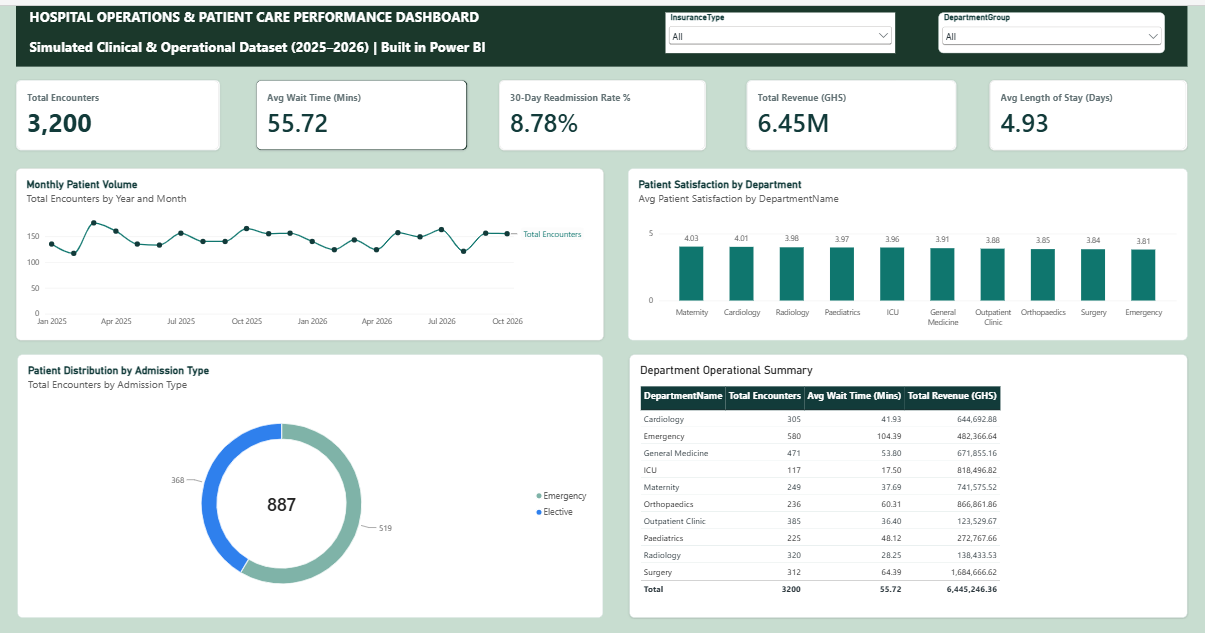

The page's visual inventory and layout, read from the dashboard file:
{"tool":"powerbi","page":{"name":"Page 1","canvas":[1920,1080],"ordinal":0},"visuals":[{"type":"shape","box":[29.3,48.8,1863.4,126.8],"z":0},{"type":"cardVisual","fields":{"Data":["_Measures.Total Encounters (Card)"]},"box":[28.6,195.6,324.5,112.1],"z":1000},{"type":"cardVisual","fields":{"Data":["_Measures.Avg Length of Stay (Days)"]},"box":[1577.1,195.6,314.9,112.1],"z":2000},{"type":"cardVisual","fields":{"Data":["_Measures.Total Revenue (GHS)"]},"box":[1190.6,195.6,334,112.1],"z":3000},{"type":"cardVisual","fields":{"Data":["_Measures.Avg Wait Time (Mins)"]},"box":[410.4,195.6,336.4,112.1],"z":4000},{"type":"cardVisual","fields":{"Data":["_Measures.30-Day Readmission Rate %"]},"box":[796.9,195.6,329.3,112.1],"z":5000},{"type":"lineChart","title":"Monthly Patient Volume","fields":{"Category":["Encounters.EncounterDate.Variation.Date Hierarchy.Year","Encounters.EncounterDate.Variation.Date Hierarchy.Month"],"Y":["_Measures.Total Encounters"]},"box":[27.9,337.5,934.4,273.4],"z":6000},{"type":"clusteredColumnChart","title":"Patient Satisfaction by Department","fields":{"Category":["Departments.DepartmentName"],"Y":["_Measures.Avg Patient Satisfaction"]},"box":[1001.4,337.5,889.8,273.4],"z":7000},{"type":"textbox","box":[51.2,61,785.4,114.6],"z":8000},{"type":"donutChart","title":"Patient Distribution by Admission Type","fields":{"Category":["Encounters.AdmissionType"],"Y":["_Measures.Total Encounters"]},"box":[30.7,633.2,931.6,418.4],"z":9000},{"type":"tableEx","title":"Department Operational Summary","fields":{"Values":["Departments.DepartmentName","_Measures.Total Encounters","_Measures.Avg Wait Time (Mins)","_Measures.Total Revenue (GHS)"]},"box":[1004.2,633.2,887,418.4],"z":10000},{"type":"slicer","fields":{"Values":["Departments.DepartmentGroup"]},"box":[1496,88.3,360.3,64.4],"z":11000},{"type":"slicer","fields":{"Values":["Encounters.InsuranceType"]},"box":[1061.7,88.3,365,64.4],"z":12000}]}

Visuals, with their boxes on the page's 1920x1080 design canvas (x1, y1, x2, y2). These are canvas units, not pixel positions in the 1205x633 screenshot, which may show the page scaled, cropped or inside an application window:
shape: (x1=29, y1=49, x2=1893, y2=176)
cardVisual - _Measures.Total Encounters (Card): (x1=29, y1=196, x2=353, y2=308)
cardVisual - _Measures.Avg Length of Stay (Days): (x1=1577, y1=196, x2=1892, y2=308)
cardVisual - _Measures.Total Revenue (GHS): (x1=1191, y1=196, x2=1525, y2=308)
cardVisual - _Measures.Avg Wait Time (Mins): (x1=410, y1=196, x2=747, y2=308)
cardVisual - _Measures.30-Day Readmission Rate %: (x1=797, y1=196, x2=1126, y2=308)
"Monthly Patient Volume" lineChart: (x1=28, y1=338, x2=962, y2=611)
"Patient Satisfaction by Department" clusteredColumnChart: (x1=1001, y1=338, x2=1891, y2=611)
textbox: (x1=51, y1=61, x2=837, y2=176)
"Patient Distribution by Admission Type" donutChart: (x1=31, y1=633, x2=962, y2=1052)
"Department Operational Summary" tableEx: (x1=1004, y1=633, x2=1891, y2=1052)
slicer - Departments.DepartmentGroup: (x1=1496, y1=88, x2=1856, y2=153)
slicer - Encounters.InsuranceType: (x1=1062, y1=88, x2=1427, y2=153)
